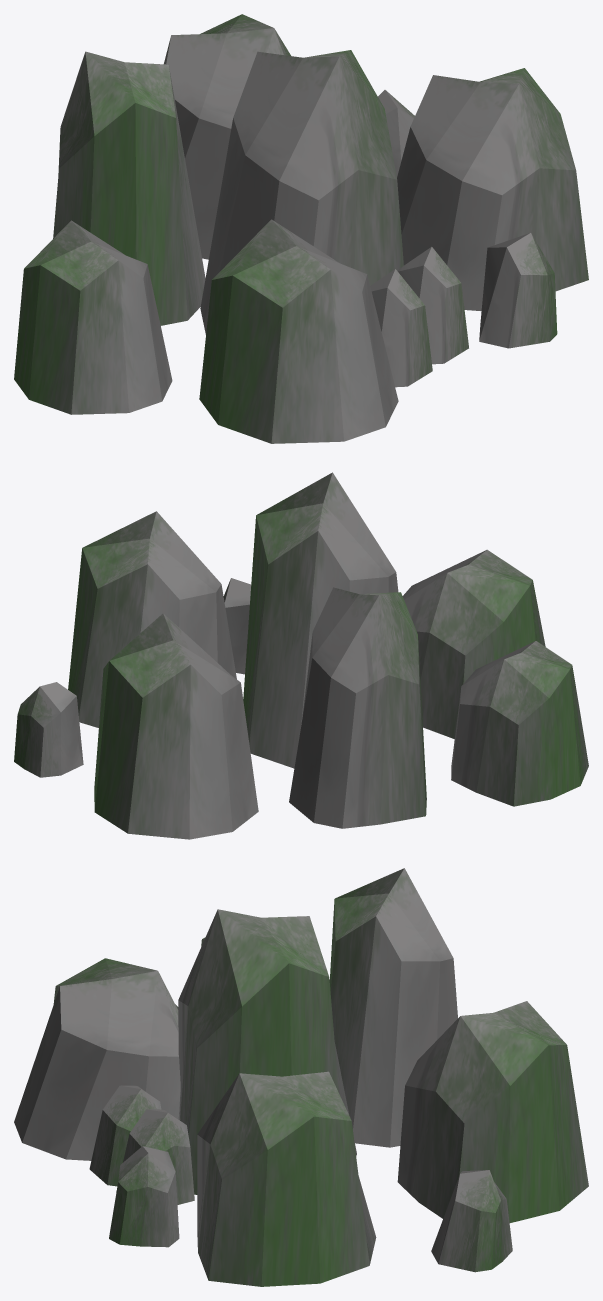
The model's file is FRM0510022.fbx.
3 views of the same model, one above another, from view 1: azimuth 30°, elevation 25°; view 2: azimuth 150°, elevation 25°; view 3: azimuth 270°, elevation 25° (orthographic). The views are drawn at different scales.
Parts seen in each view (by area): view 1: smFRM0510022; view 2: smFRM0510022; view 3: smFRM0510022.
Part boxes in pixels (left/top/right/bottom): smFRM0510022: left=14, top=14, right=588, bottom=443; smFRM0510022: left=14, top=472, right=588, bottom=839; smFRM0510022: left=14, top=868, right=588, bottom=1286.
Size of the model in its own units: 151 by 72.54 by 145.
1 material, 1 textured.
